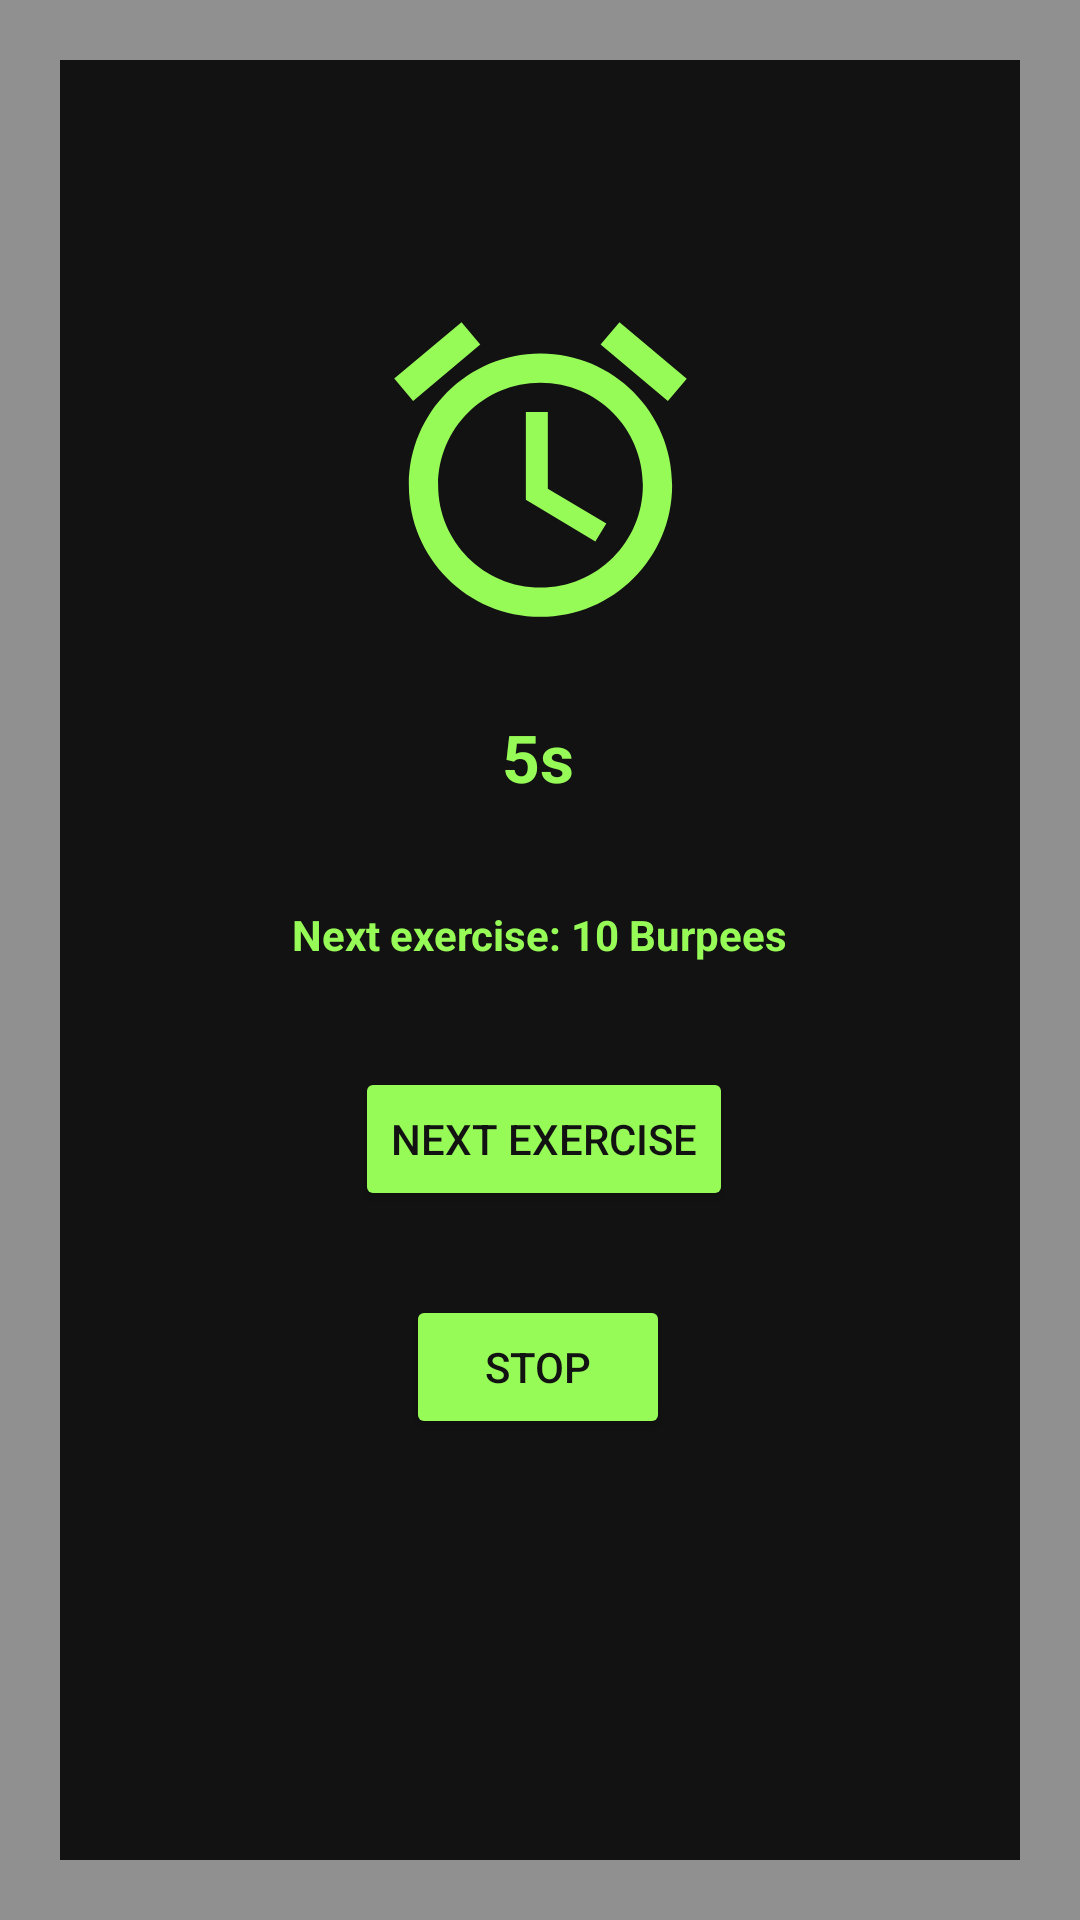

Icon bounding boxes for this 1080px x 1920px phone screenshot, format box=[x1, y1, x2, y2]:
access alarm: box=[394, 322, 687, 617]
